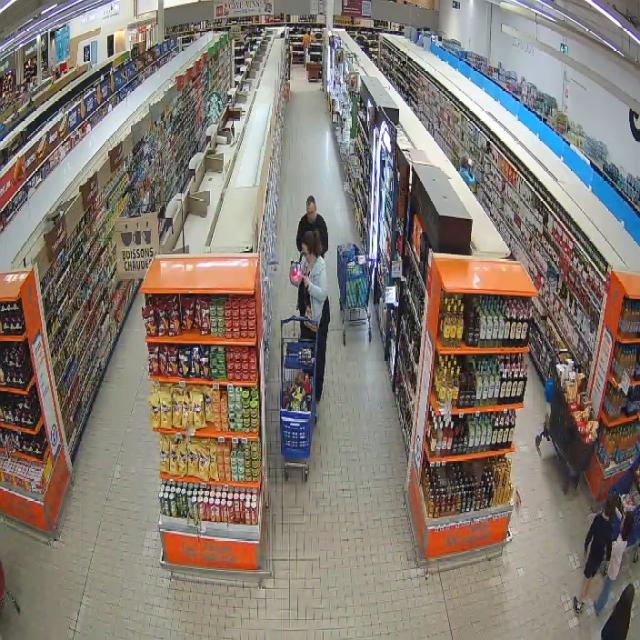article: (292, 262, 302, 283)
bags: (304, 306, 319, 333)
hands: (303, 276, 309, 287), (584, 546, 588, 557)
person: (298, 231, 329, 401), (573, 498, 615, 613), (595, 512, 632, 613), (296, 196, 327, 256)
